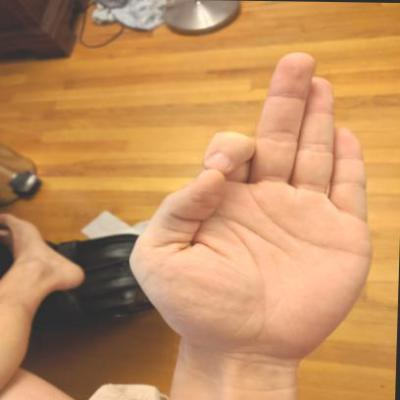hand: (123, 46, 385, 366)
